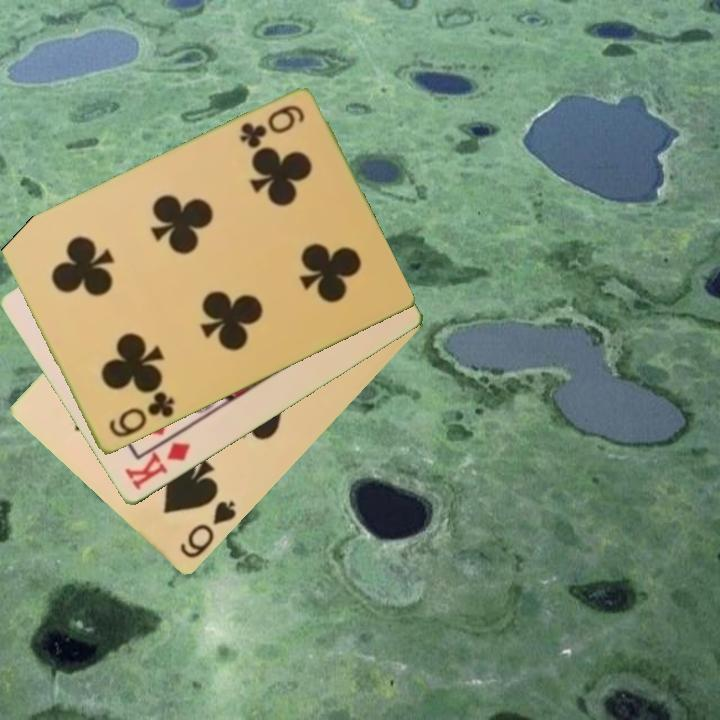6c: (105, 388, 178, 441), (236, 102, 308, 152)
6s: (176, 497, 240, 562)
Kd: (121, 439, 193, 494)
